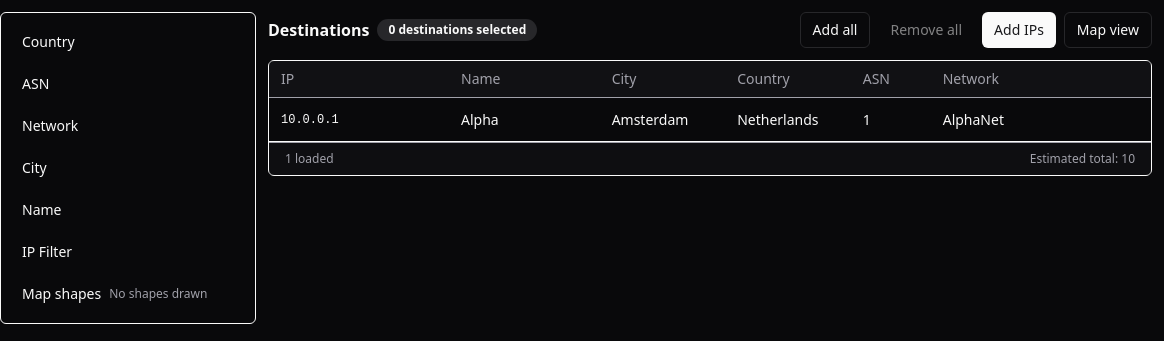
Test: DestinationPanel › fetchNextPage rejection surfaces walk error + toast, selection untouched
Click the button "Add all". click: (835, 30)
box: [800, 12, 870, 48]
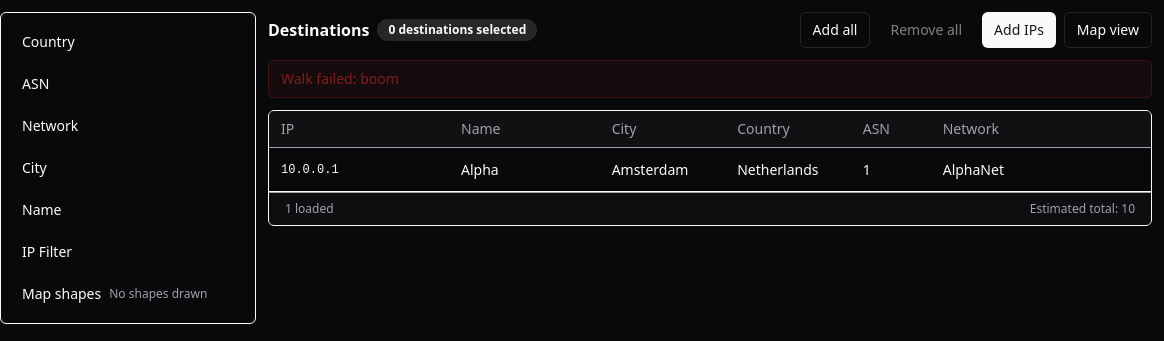
Expected: the message reads "Walk failed: boom", [268, 60, 1152, 98]
